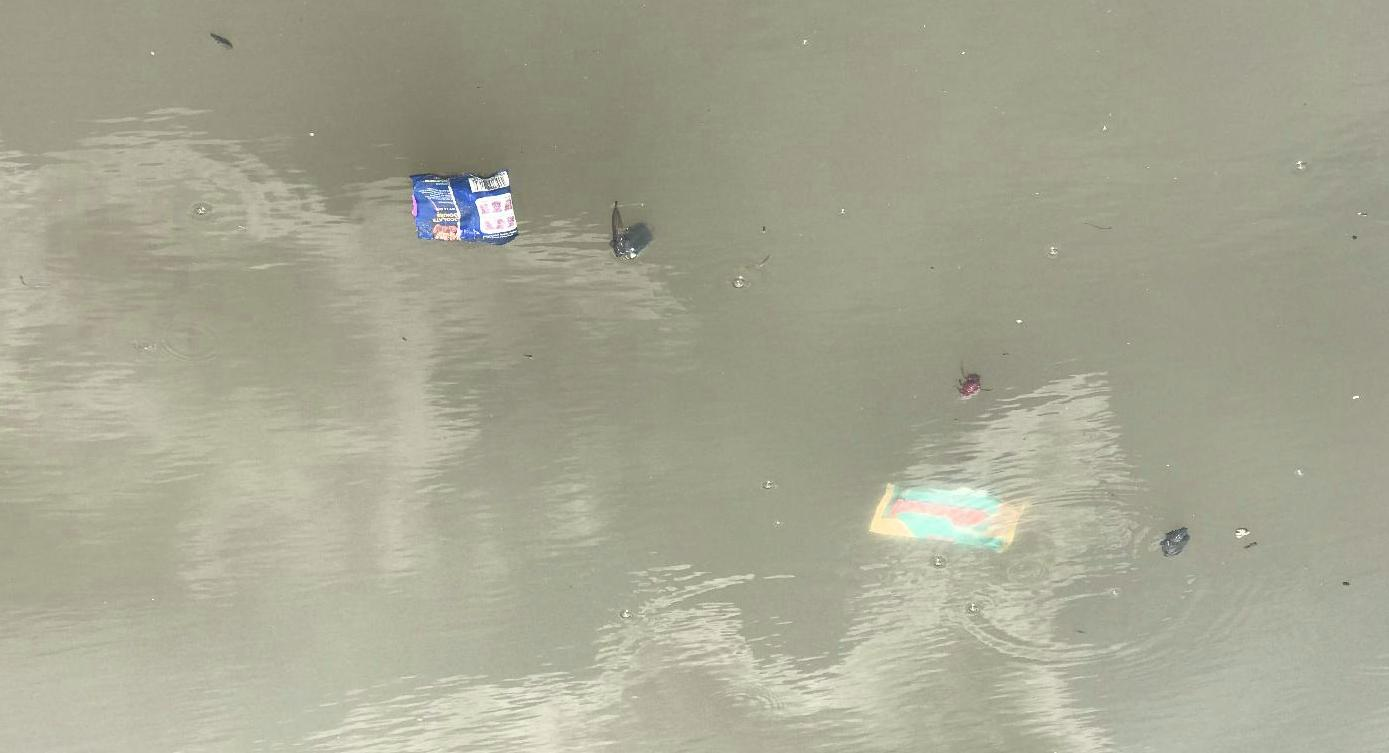Trash: (869, 477, 1023, 556), (410, 172, 523, 248)
